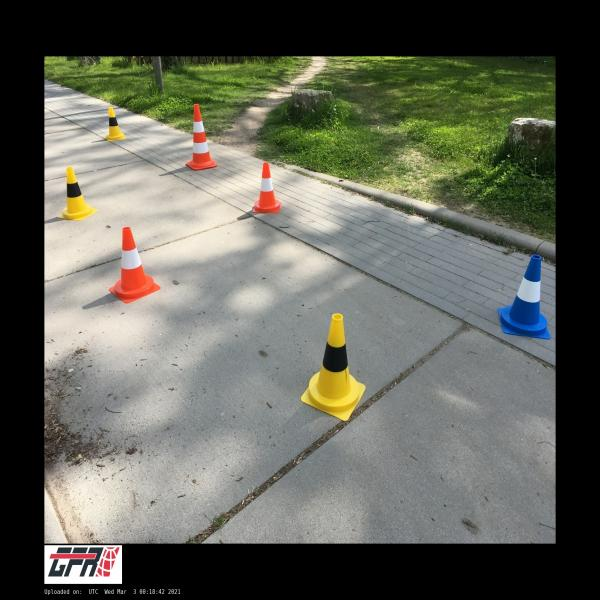blue_cone: (497, 254, 550, 340)
large_orange_cone: (186, 104, 217, 170)
orange_cone: (108, 226, 161, 304), (252, 162, 282, 213)
yellow_cone: (300, 313, 366, 421), (58, 167, 97, 220), (105, 107, 126, 141)
